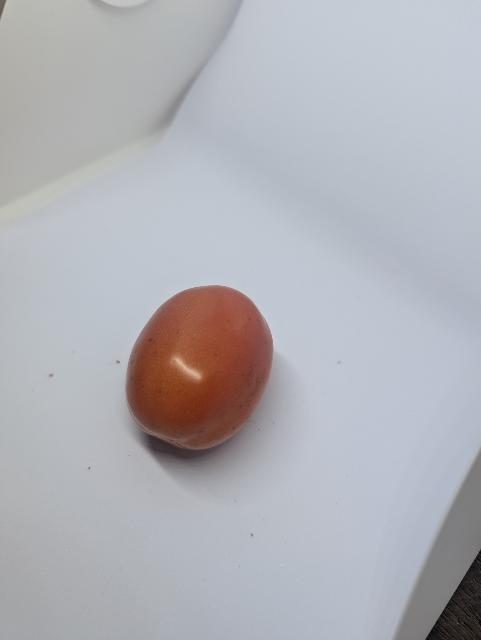red: (120, 284, 278, 449)
